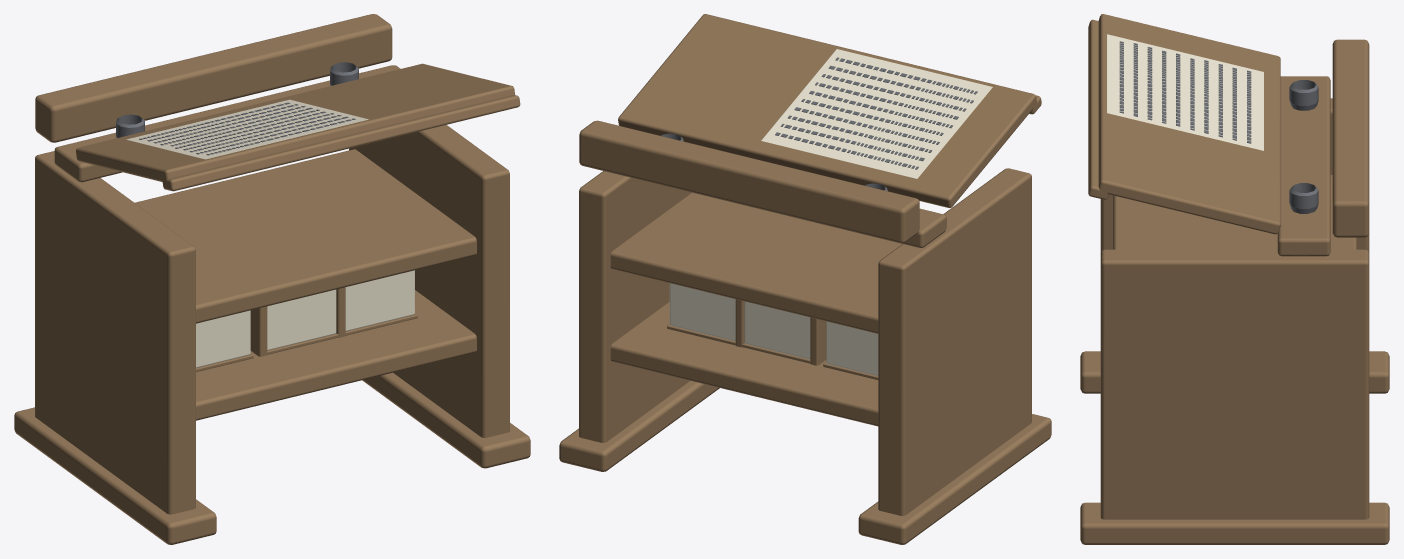
Rendered from sloped-writing-desk.glb.
3 views of the same model, side by side, from view 1: azimuth 30°, elevation 25°; view 2: azimuth 150°, elevation 25°; view 3: azimuth 270°, elevation 25° (orthographic). The views are drawn at different scales.
Visible parts, largest first — view 1: sloped-writing-desk, desk-lid/oak, desk-lid/parchment, desk-lid/iron; view 2: sloped-writing-desk, desk-lid/oak, desk-lid/parchment, desk-lid/iron; view 3: sloped-writing-desk, desk-lid/oak, desk-lid/parchment, desk-lid/iron.
Part boxes in pixels (bbox=[...]): sloped-writing-desk: bbox=[14, 14, 530, 544]; desk-lid/oak: bbox=[76, 63, 520, 191]; desk-lid/parchment: bbox=[126, 99, 368, 159]; desk-lid/iron: bbox=[139, 102, 355, 155]; sloped-writing-desk: bbox=[559, 120, 1051, 544]; desk-lid/oak: bbox=[618, 14, 1041, 207]; desk-lid/parchment: bbox=[761, 49, 992, 178]; desk-lid/iron: bbox=[775, 57, 977, 169]; sloped-writing-desk: bbox=[1080, 39, 1389, 544]; desk-lid/oak: bbox=[1088, 14, 1280, 234]; desk-lid/parchment: bbox=[1107, 34, 1263, 150]; desk-lid/iron: bbox=[1119, 41, 1251, 143].
Bounding box in the file's own units: 1.02 × 0.9831 × 0.76.
